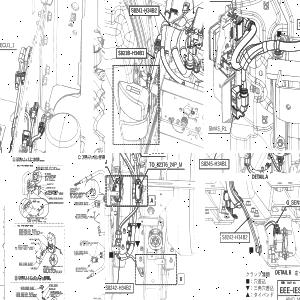PartNumber: (118, 49, 145, 57), (131, 7, 157, 14), (201, 160, 227, 167), (105, 285, 132, 291), (221, 234, 248, 240), (18, 244, 26, 247), (74, 203, 84, 205), (16, 295, 25, 297), (16, 294, 25, 296), (16, 292, 25, 294), (49, 284, 58, 286), (50, 290, 59, 292), (29, 238, 38, 240), (19, 232, 28, 234), (18, 228, 27, 230), (49, 202, 58, 204), (48, 190, 57, 192), (47, 186, 56, 188), (36, 168, 45, 170), (74, 250, 83, 252), (21, 288, 29, 290), (21, 286, 29, 288), (19, 262, 27, 264), (31, 242, 39, 244), (49, 197, 57, 199), (75, 202, 83, 204), (76, 267, 84, 269), (19, 234, 28, 235), (19, 231, 28, 232), (74, 252, 83, 253), (19, 264, 27, 265), (36, 167, 44, 168), (76, 214, 84, 215)
